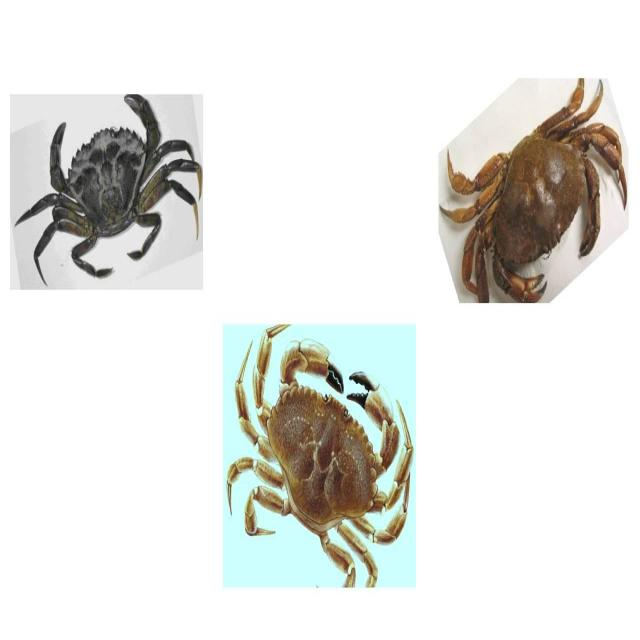egc: (13, 90, 202, 290)
